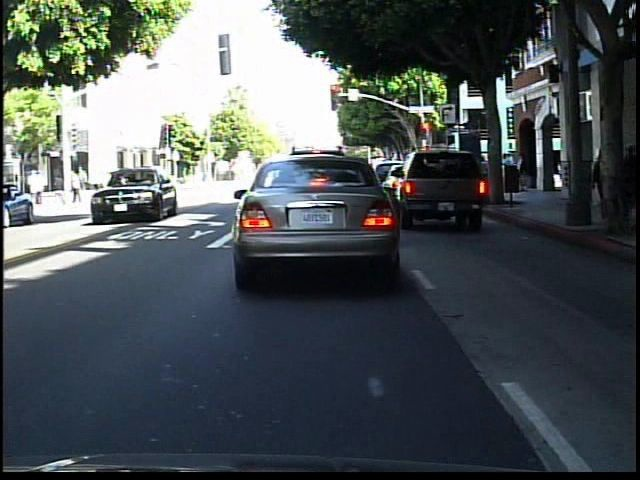person: (617, 141, 640, 219), (604, 140, 626, 214), (74, 162, 91, 196), (72, 168, 87, 206), (54, 170, 67, 206)
